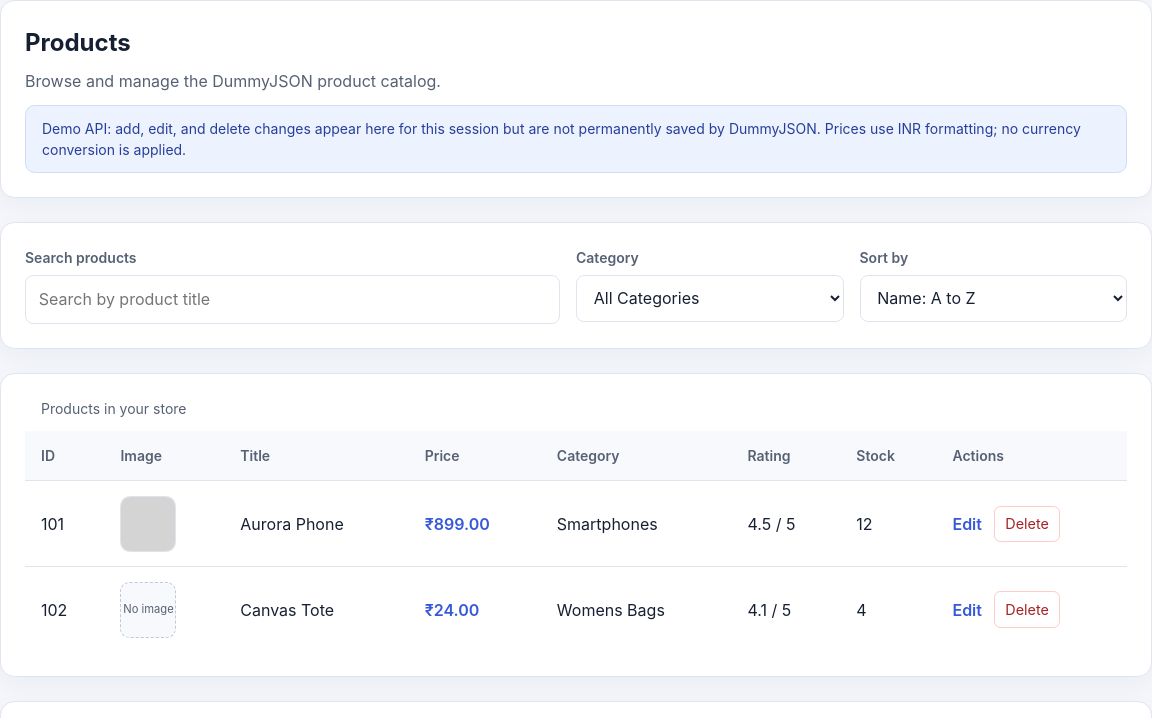
Test: Products page › searches by title and filters by category
Type "phone" into the search field labelled "Search products" at (292, 299), box [25,275,560,324]
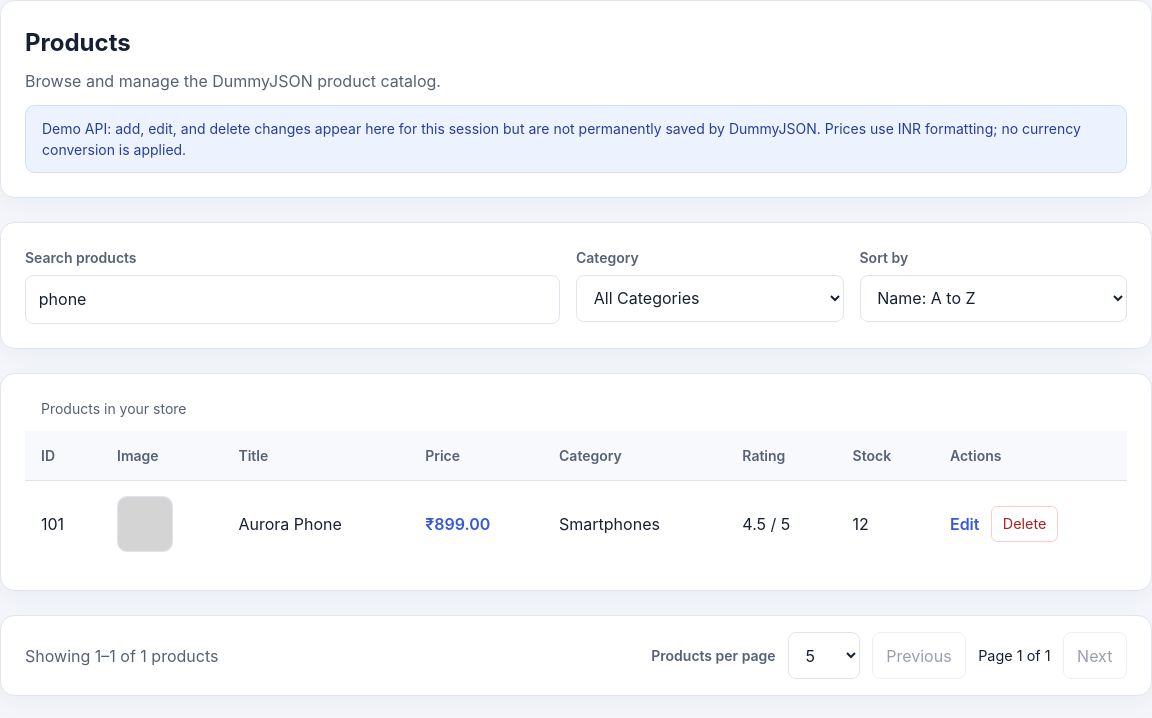
Expected: the row "101 Aurora Phone ₹899.00 Smartphones 4.5 / 5 12 Edit Delete" is shown, [25,481,1127,566]
Expected: the cell "Canvas Tote" is gone
Select "womens-bags" in the dropdown labelled "Category" at (710, 298), box [576,275,844,322]
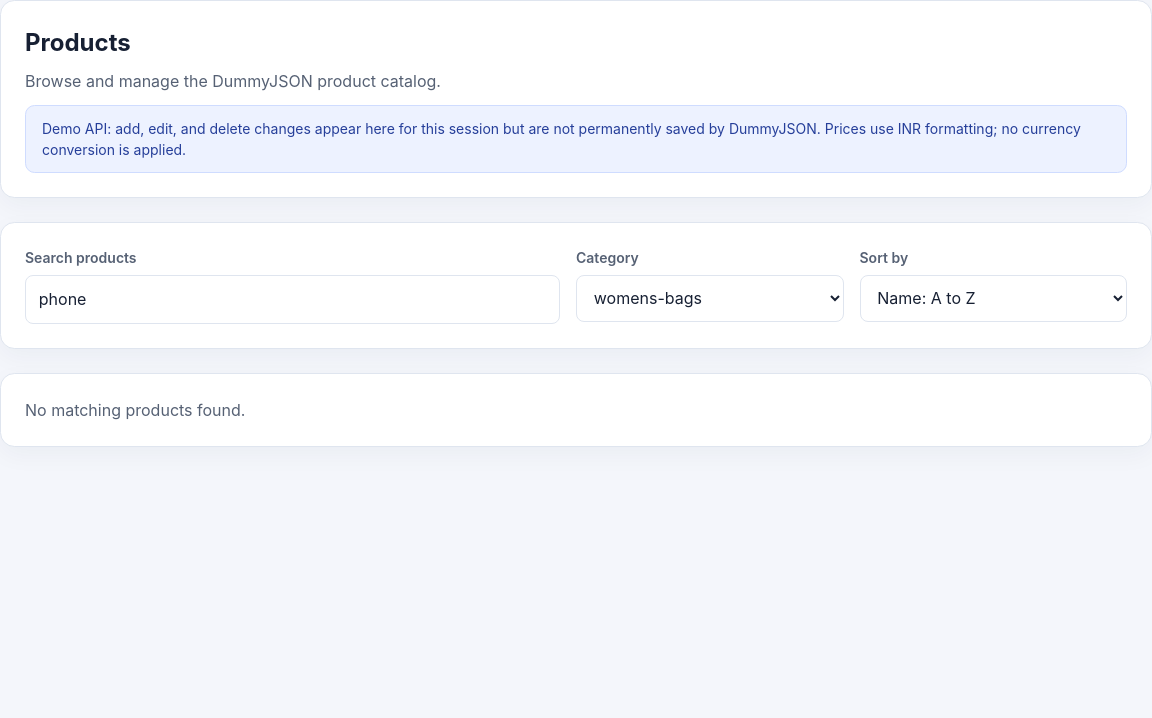
Expected: the text "No matching products found." is shown, [0,373,1151,447]
